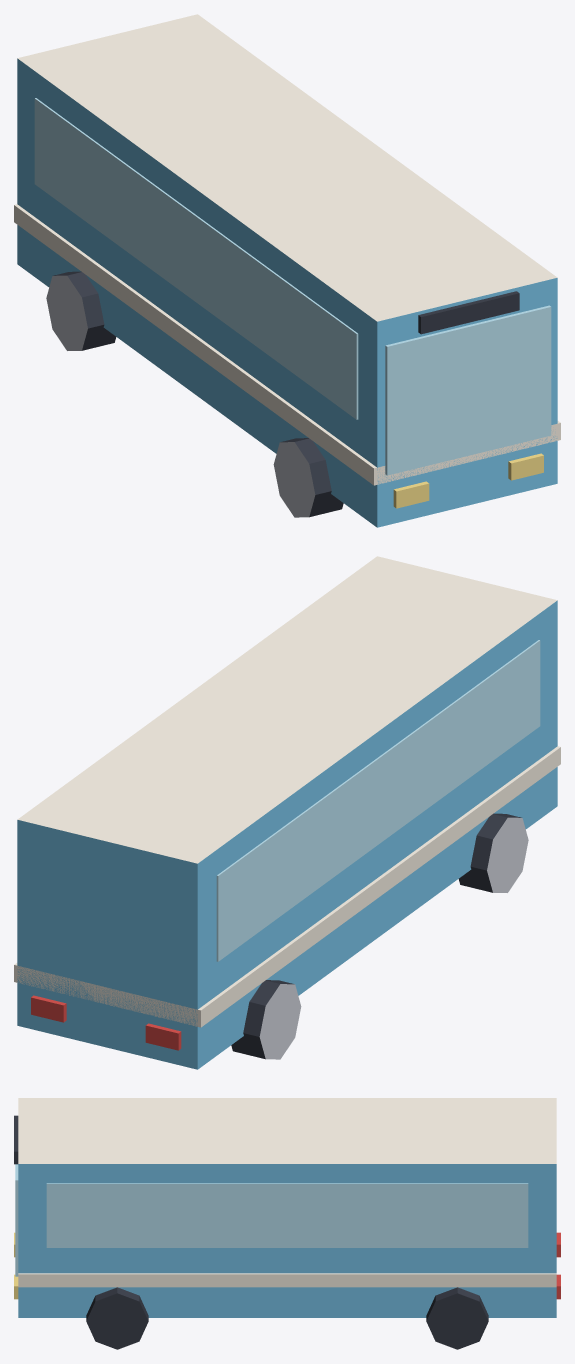
File: vehicle_bus.glb
The picture shows the model from 3 angles, top to bottom: view 1: azimuth 30°, elevation 25°; view 2: azimuth 150°, elevation 25°; view 3: azimuth 270°, elevation 25°; orthographic projection. The views are drawn at different scales.
Visible parts, largest first — view 1: vehicle_bus; view 2: vehicle_bus; view 3: vehicle_bus.
Part boxes in pixels (<box>): vehicle_bus: <box>14,14,560,527</box>; vehicle_bus: <box>14,556,560,1069</box>; vehicle_bus: <box>14,1098,560,1349</box>.
Bounding box in the file's own units: 0.13 × 0.14 × 0.386.
